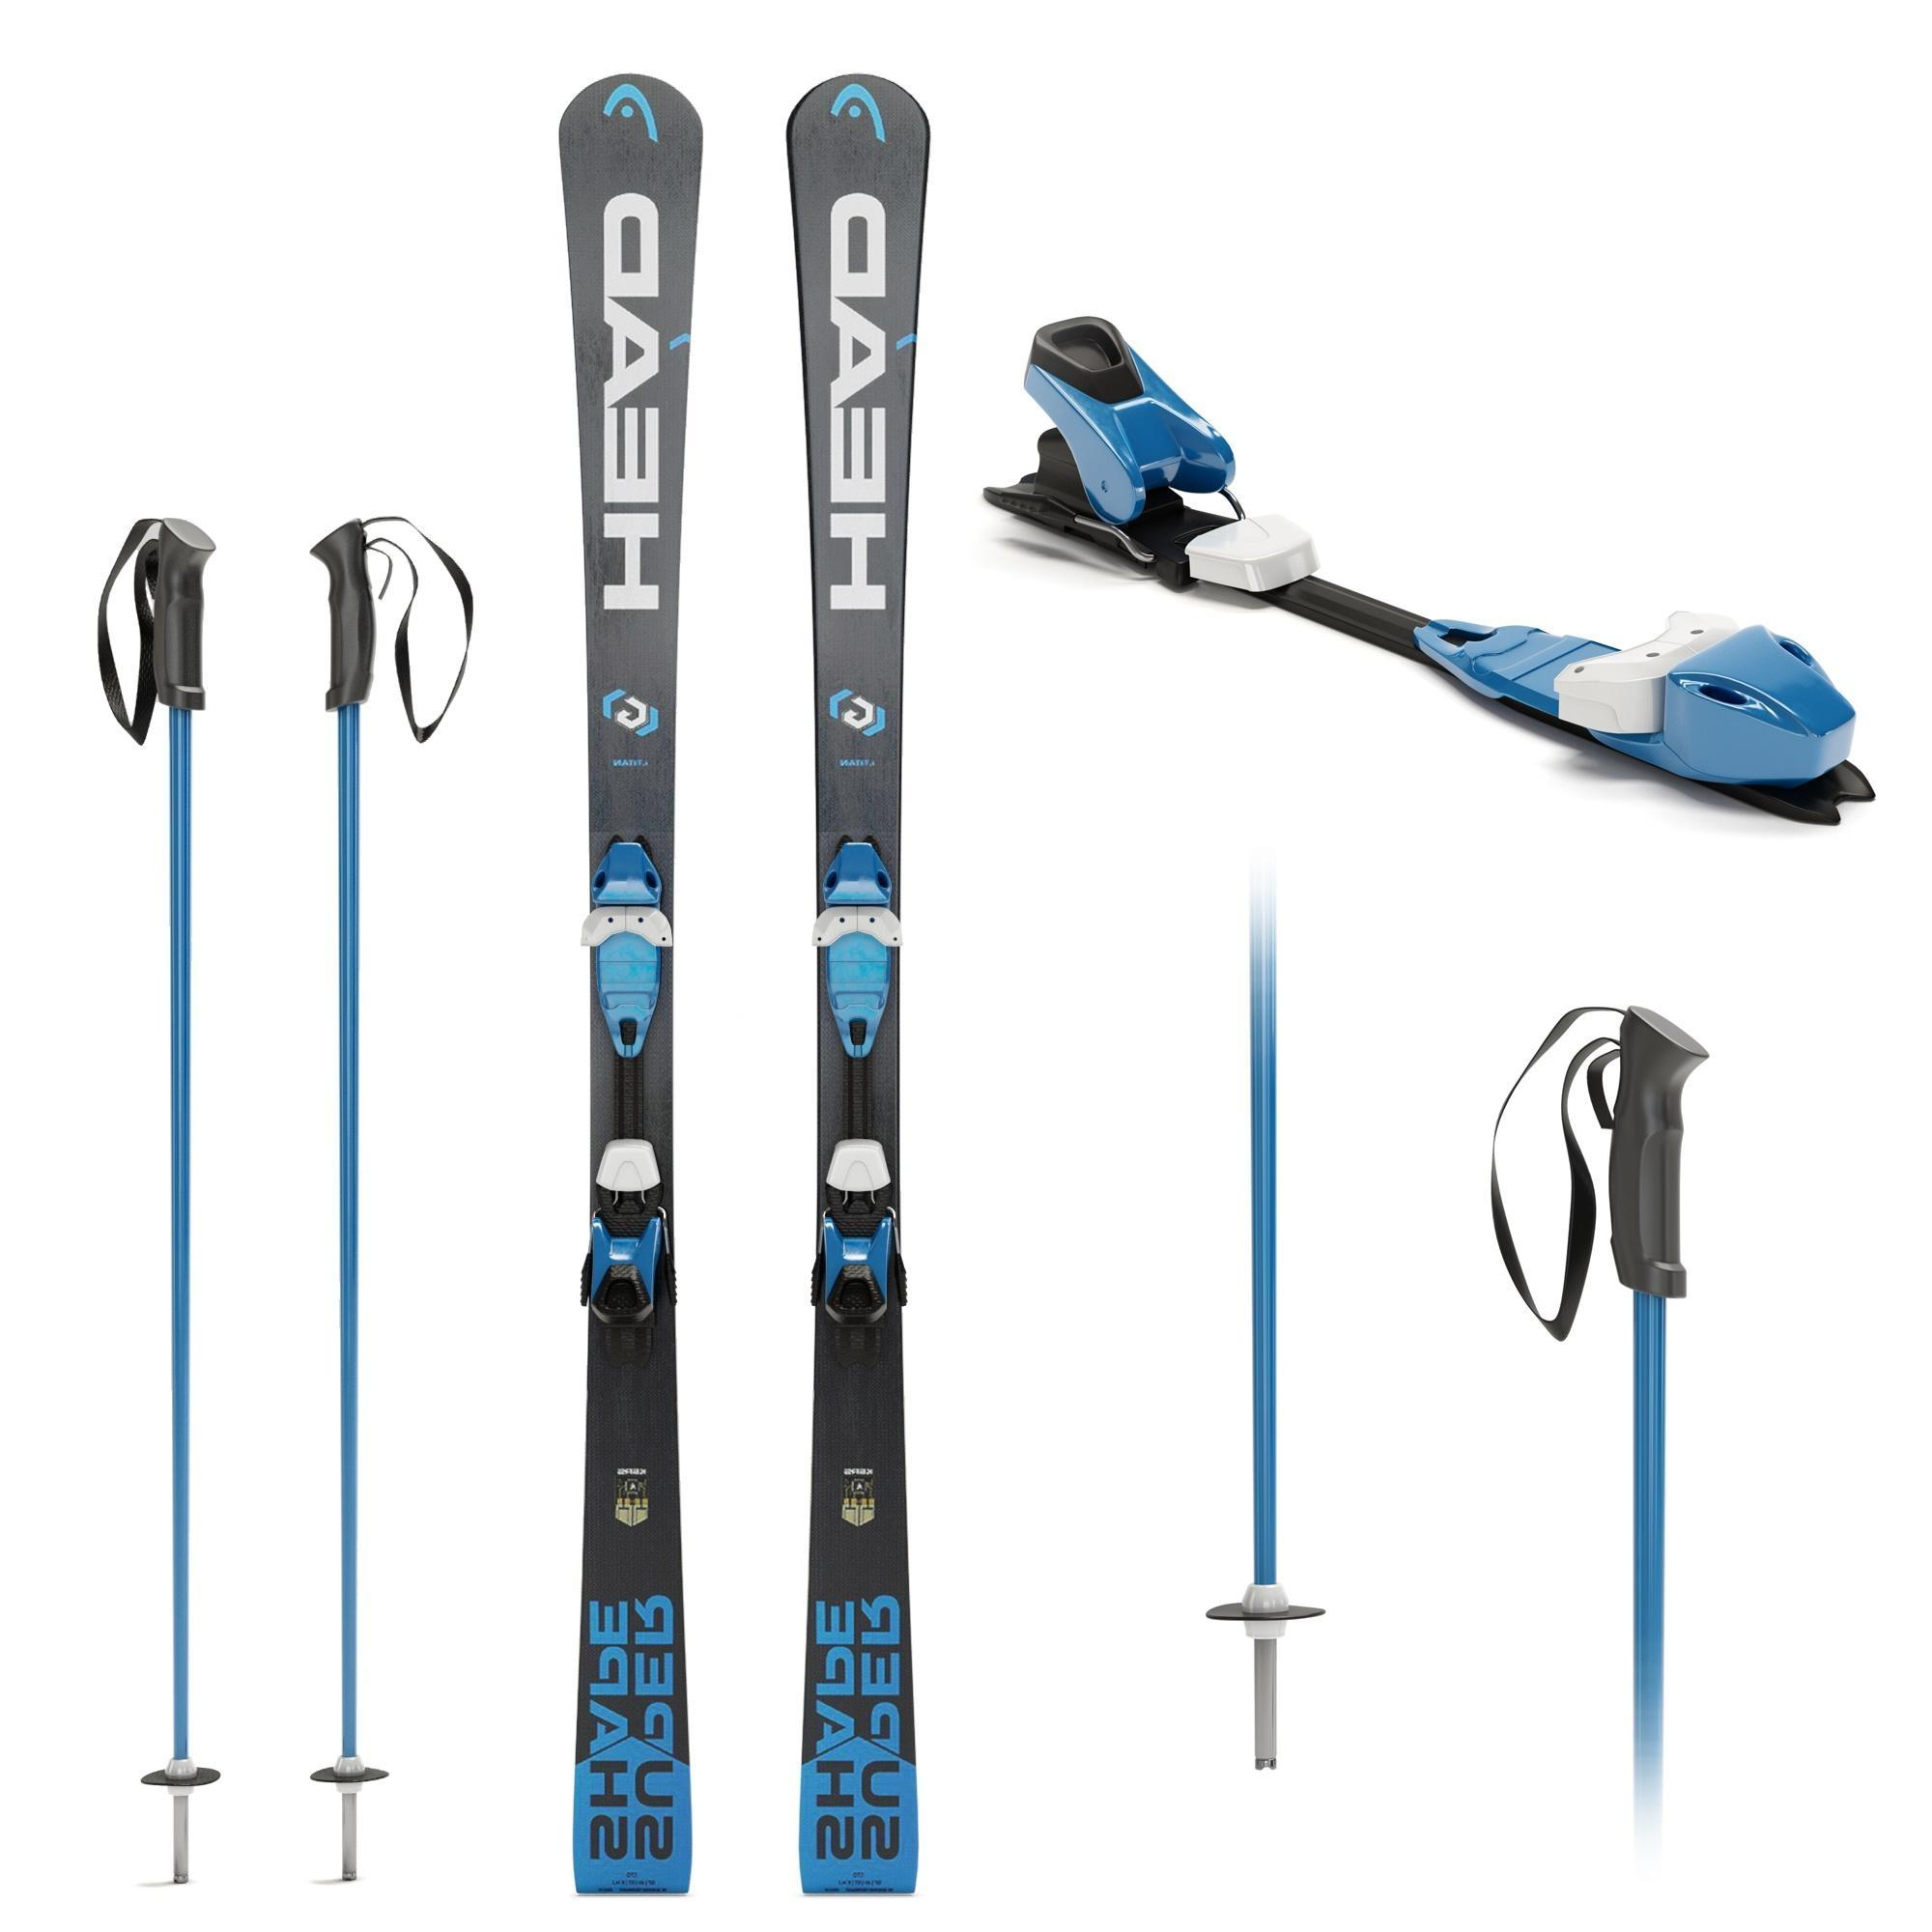Skis: (50, 0, 970, 1932)
